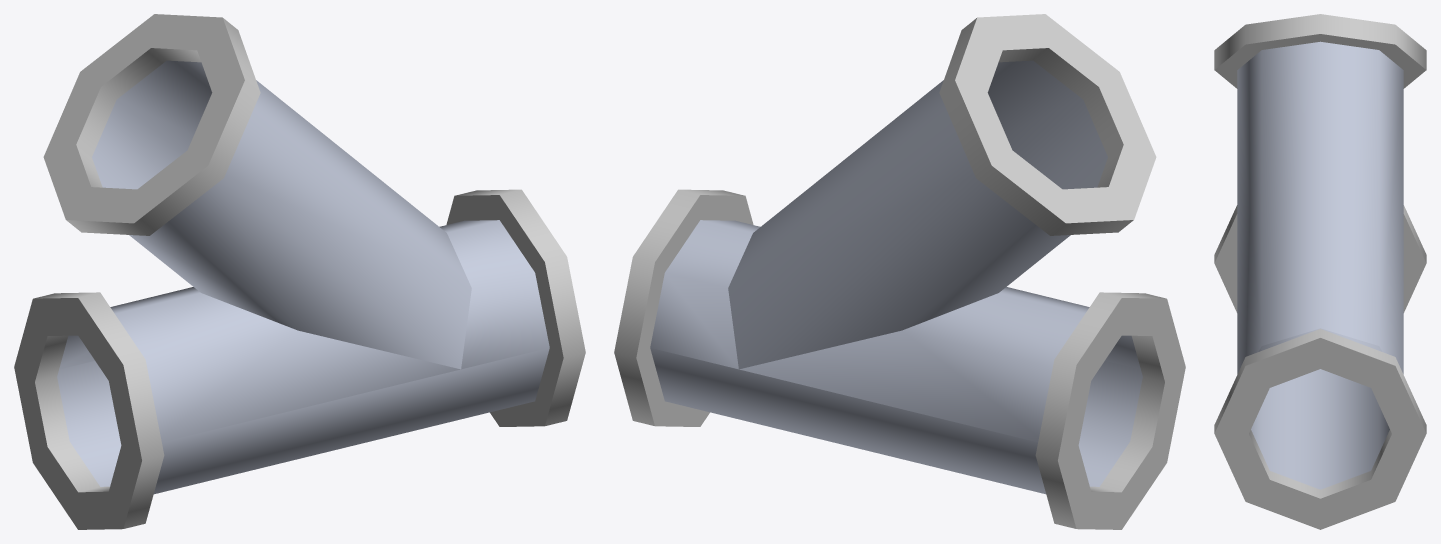
The model's file is pipe-glass-large-junction.obj.
3 views of the same model, side by side, from view 1: azimuth 30°, elevation 25°; view 2: azimuth 150°, elevation 25°; view 3: azimuth 270°, elevation 25° (orthographic). The views are drawn at different scales.
Visible parts, largest first — view 1: pipe-glass-large-junction; view 2: pipe-glass-large-junction; view 3: pipe-glass-large-junction.
Boxes of the visible parts, left/top/right/bottom form: pipe-glass-large-junction: left=14, top=14, right=585, bottom=529; pipe-glass-large-junction: left=614, top=14, right=1185, bottom=529; pipe-glass-large-junction: left=1214, top=14, right=1426, bottom=529.
Size of the model in its own units: 2.06 by 2.06 by 1.
